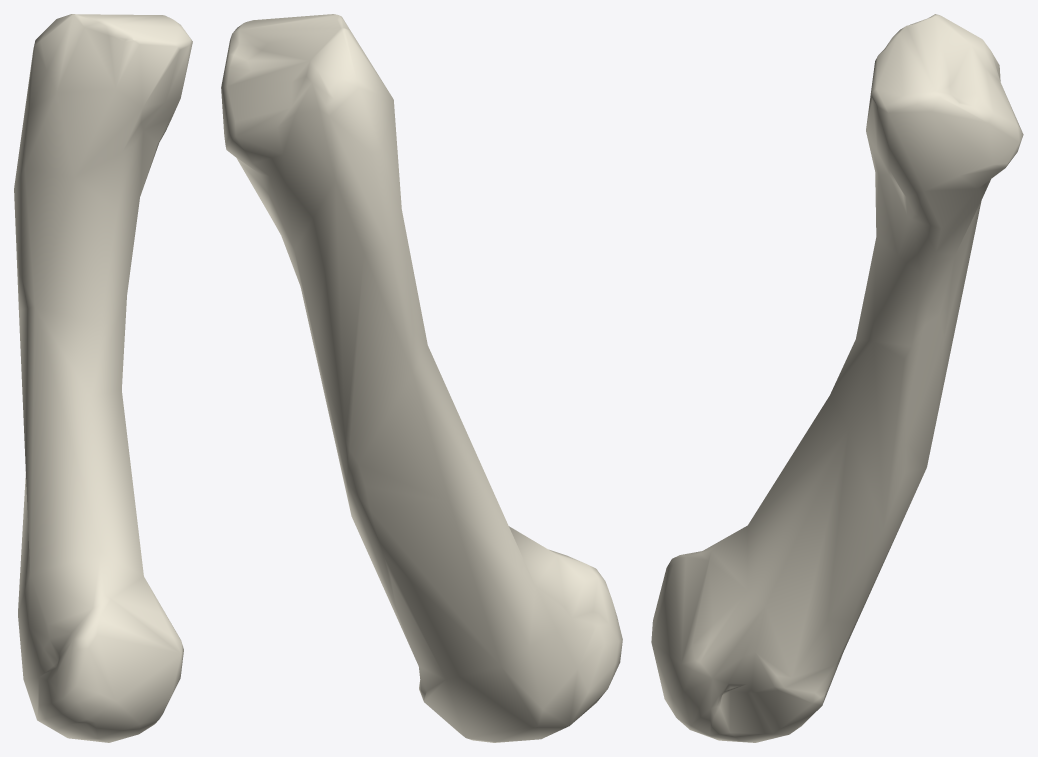
3 renders of one model, left to right at view 1: azimuth 30°, elevation 25°; view 2: azimuth 150°, elevation 25°; view 3: azimuth 270°, elevation 25°, orthographic. The views are drawn at different scales.
Parts seen in each view (by area): view 1: ZA_22e10f0df37adade; view 2: ZA_22e10f0df37adade; view 3: ZA_22e10f0df37adade.
Boxes of the visible parts, <box> form: ZA_22e10f0df37adade: <box>14,14,192,742</box>; ZA_22e10f0df37adade: <box>221,14,622,742</box>; ZA_22e10f0df37adade: <box>651,14,1023,742</box>.
Size of the model in its own units: 0.0209 by 0.057 by 0.0255.
